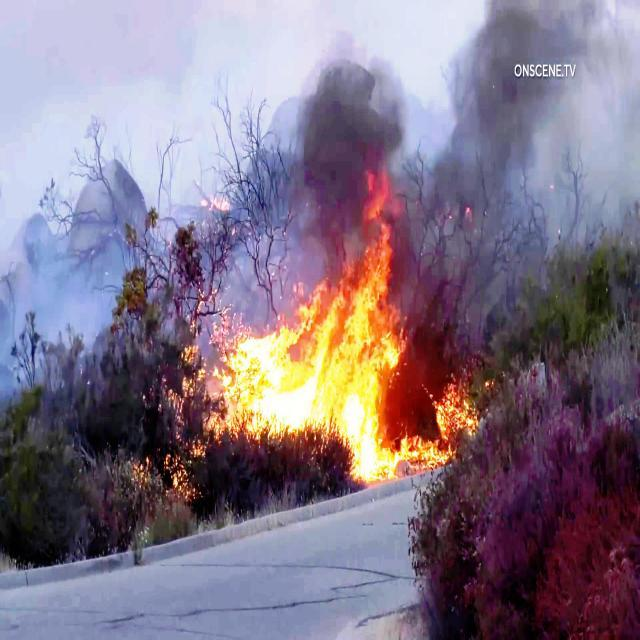Fire: (133, 236, 475, 494)
Smoke: (0, 0, 640, 206), (0, 212, 116, 424), (480, 216, 640, 324)
